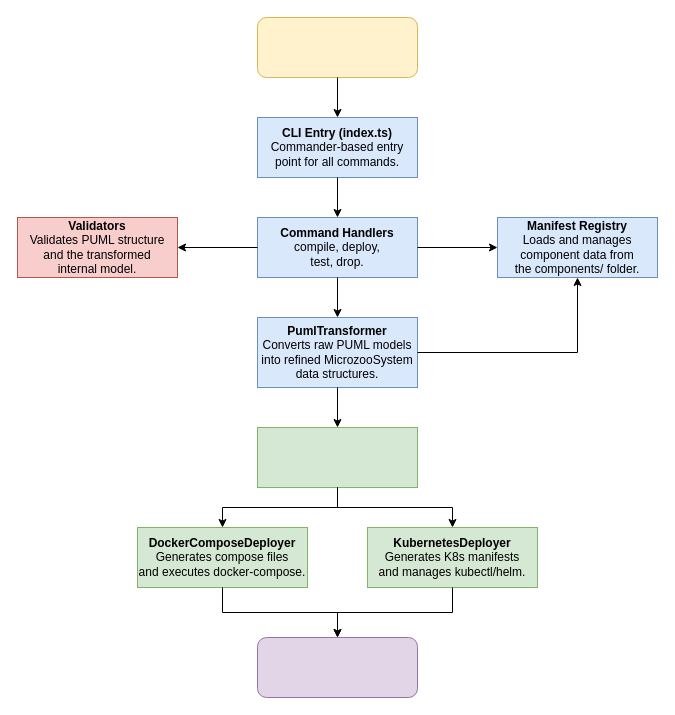
This 675x715 diagram has some shape labels left out. The shapes that lost their labels are listed below. From the top down, each one's box as (x1, y1, x2, y2) in pixels, then its label:
(256, 16, 418, 78): Scenarios (.puml) PlantUML files describing microservice architecture.
(256, 426, 418, 488): MicrozooDeployer (IF) Abstraction for target deployments (Compose/K8s).
(256, 636, 418, 698): Stacks Folder Output directory for generated deployment files.
